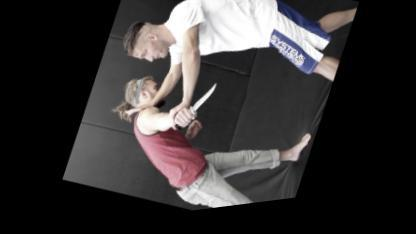knife: (170, 73, 222, 144)
